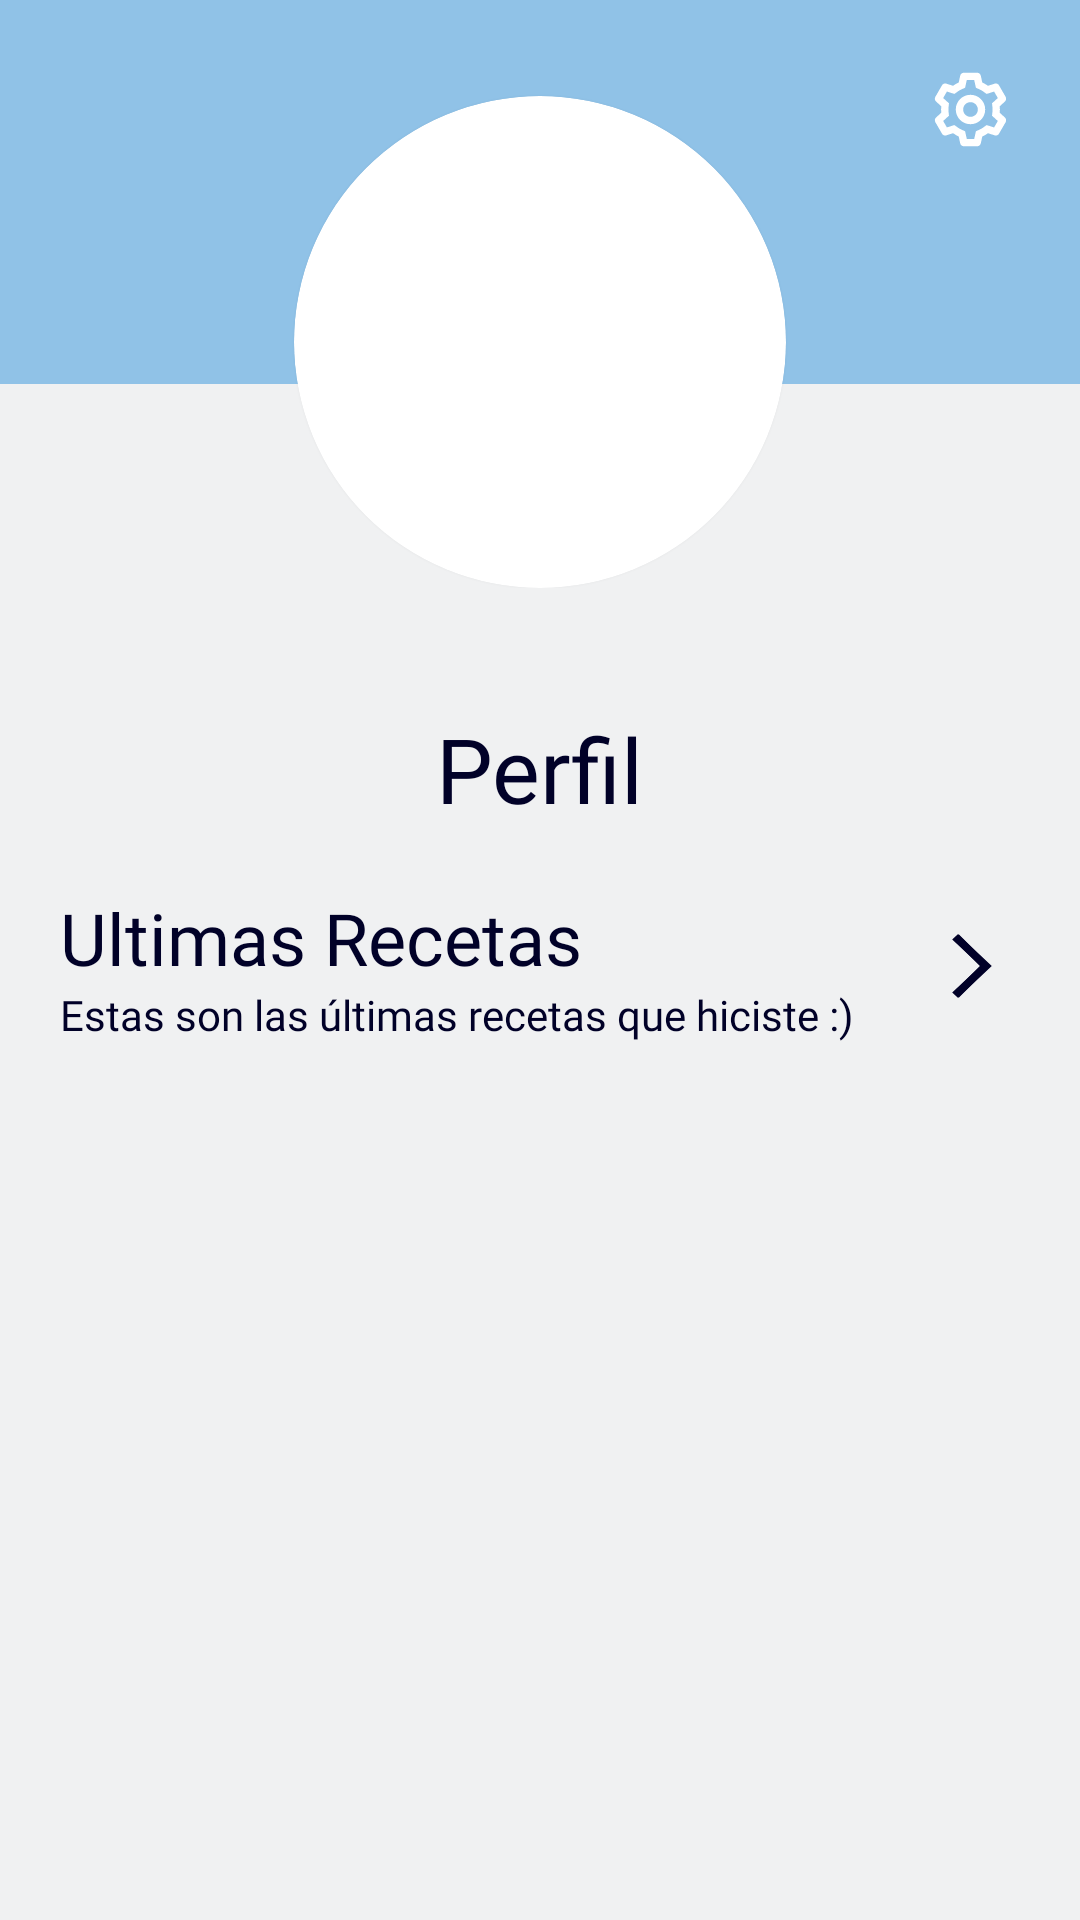

Icons on this 1080*1920 Android screen, each with the point to tap as (x=x, y=y):
Ajustes: (x=970, y=109)
